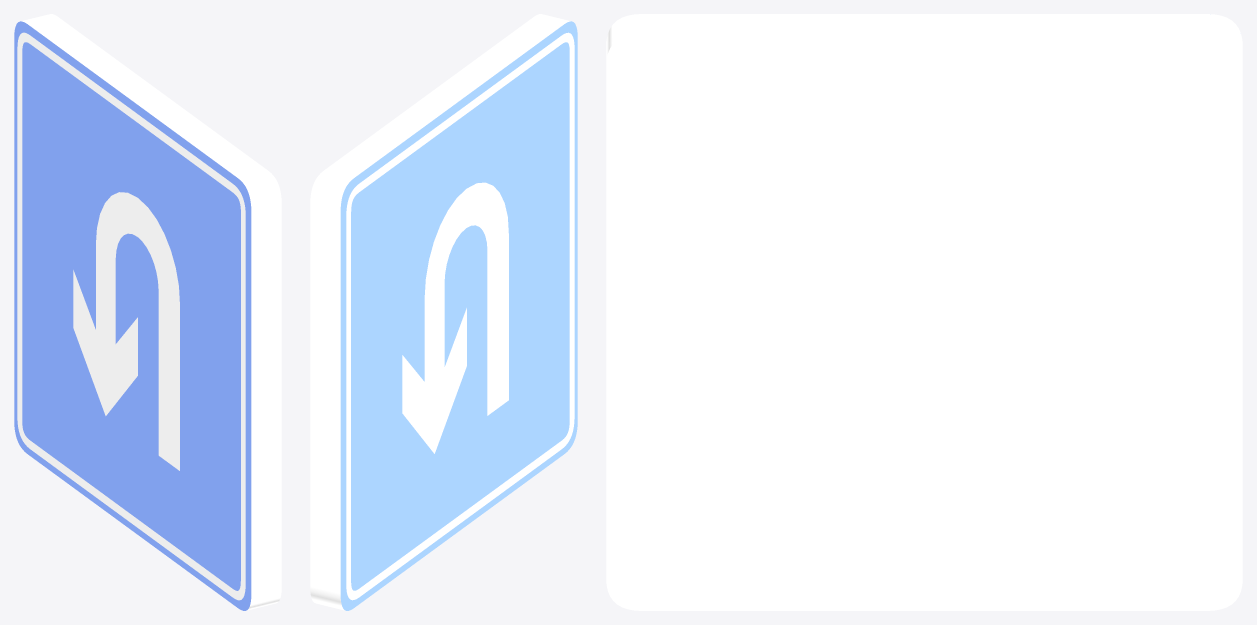
The model's file is U_Turn_Allowed.glb.
3 views of the same model, side by side, from view 1: azimuth 30°, elevation 25°; view 2: azimuth 150°, elevation 25°; view 3: azimuth 270°, elevation 25° (orthographic). The views are drawn at different scales.
Parts seen in each view (by area): view 1: U_Turn_Allowed; view 2: U_Turn_Allowed; view 3: U_Turn_Allowed.
Part boxes in pixels (box(x1,y1,x2,y2)): U_Turn_Allowed: box(14, 14, 281, 610); U_Turn_Allowed: box(310, 14, 577, 610); U_Turn_Allowed: box(606, 14, 1242, 610).
Size of the model in its own units: 0.0776 by 1.01 by 1.01.
